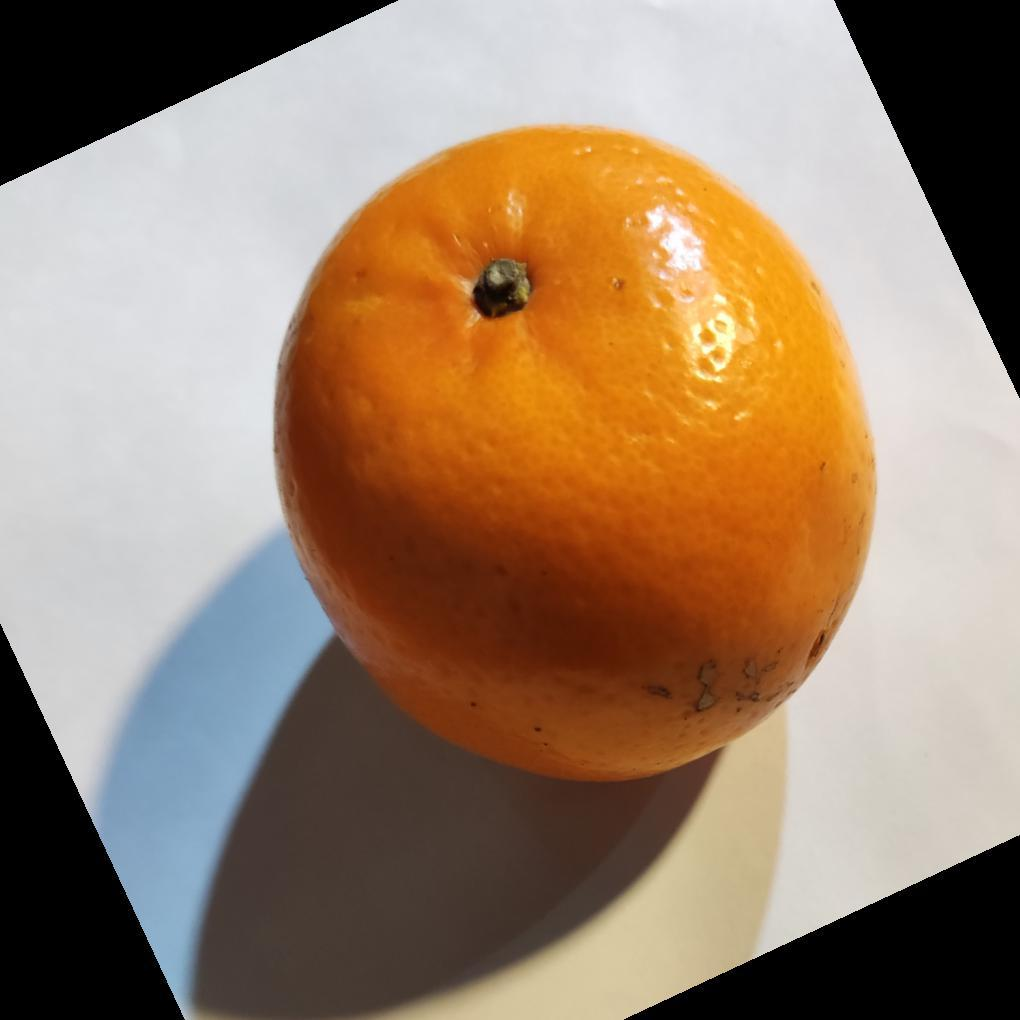FreshGuava: (271, 125, 877, 786)
